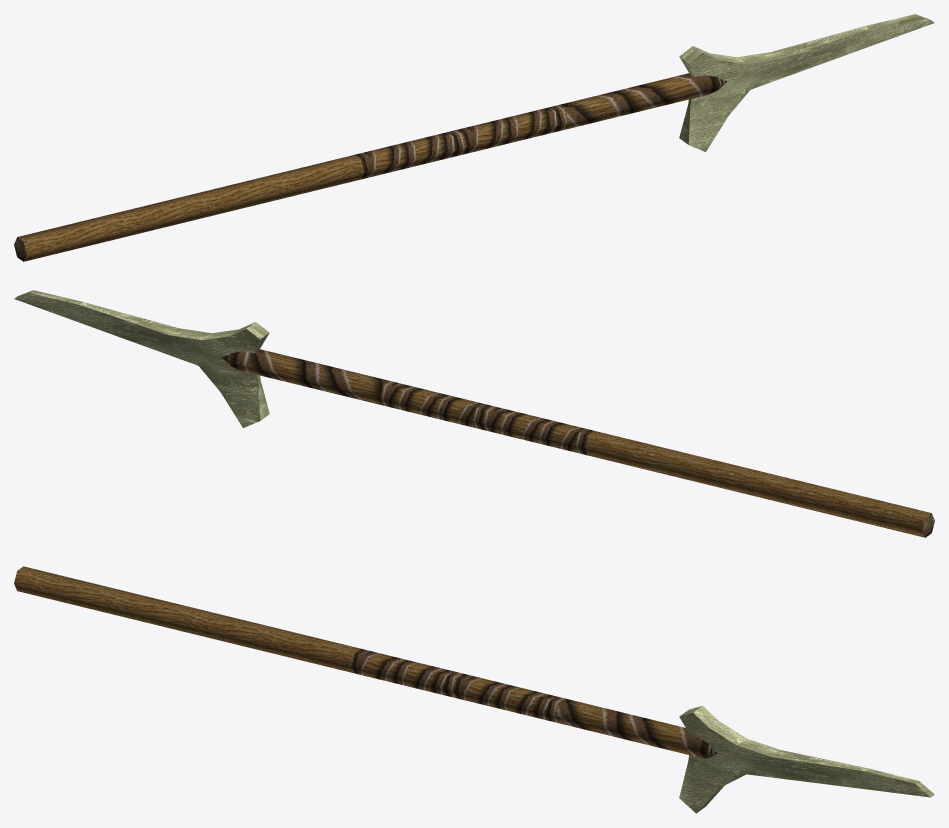
3 views of the same model, one above another, from view 1: azimuth 30°, elevation 25°; view 2: azimuth 150°, elevation 25°; view 3: azimuth 330°, elevation 25° (orthographic).
Parts seen in each view (by area): view 1: it10109; view 2: it10109; view 3: it10109.
Part boxes in pixels (<box>): it10109: <box>14,14,934,261</box>; it10109: <box>14,290,934,537</box>; it10109: <box>14,566,934,813</box>.
Size of the model in its own units: 4.12 by 0.4326 by 0.0996.
Materials: 4 (4 with a texture image).
